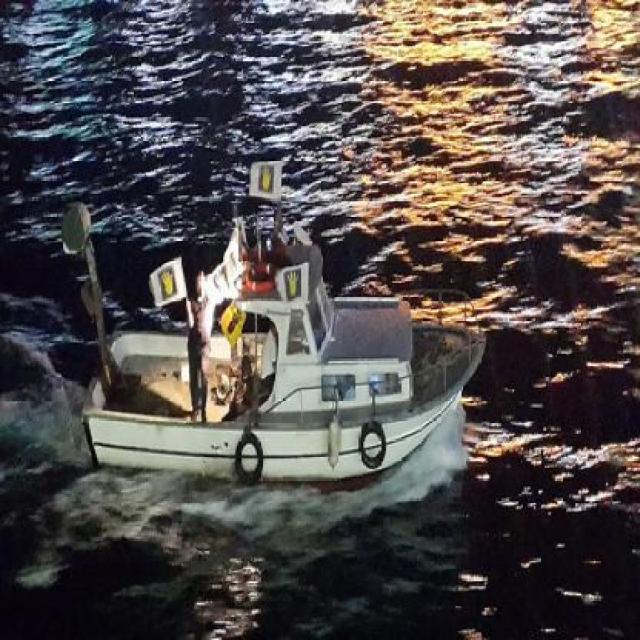ship: (59, 192, 493, 480)
